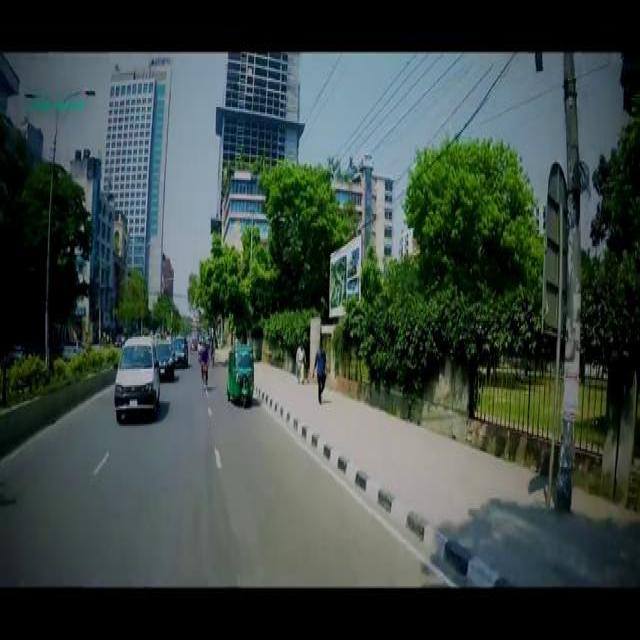15: (173, 334, 187, 363)
17: (224, 341, 253, 402)
5: (156, 340, 174, 374), (61, 337, 83, 356)
9: (112, 333, 160, 418)
Motorcycle: (200, 355, 207, 381)
